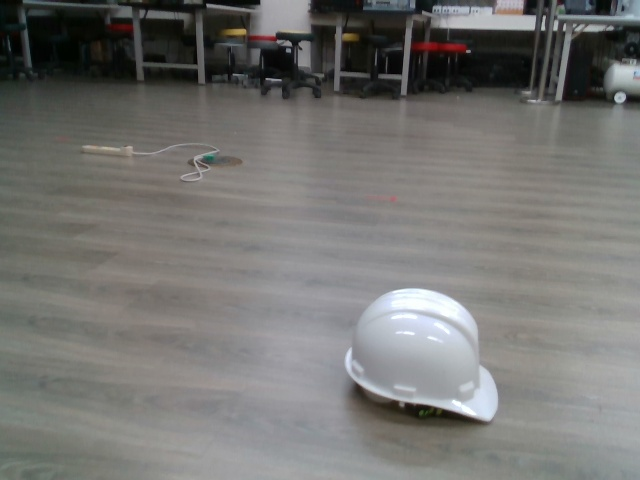helmet: (338, 285, 503, 427)
